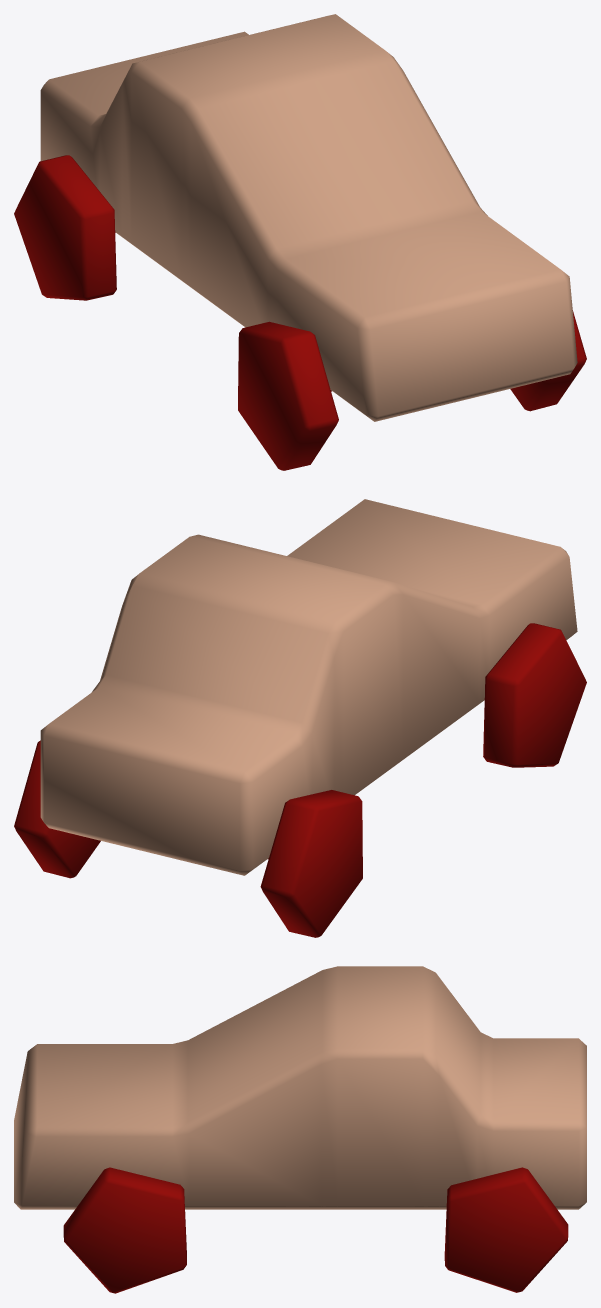
Rendered from props_Toy_car.fbx.
The picture shows the model from 3 angles, top to bottom: view 1: azimuth 30°, elevation 25°; view 2: azimuth 150°, elevation 25°; view 3: azimuth 270°, elevation 25°; orthographic projection. The views are drawn at different scales.
Visible parts, largest first — view 1: props_Toy_car; view 2: props_Toy_car; view 3: props_Toy_car.
Boxes of the visible parts, x1=… form: props_Toy_car: x1=14, y1=14, x2=586, y2=470; props_Toy_car: x1=14, y1=499, x2=586, y2=937; props_Toy_car: x1=14, y1=966, x2=586, y2=1293.
Bounding box in the file's own units: 49.71 × 45.08 × 102.
